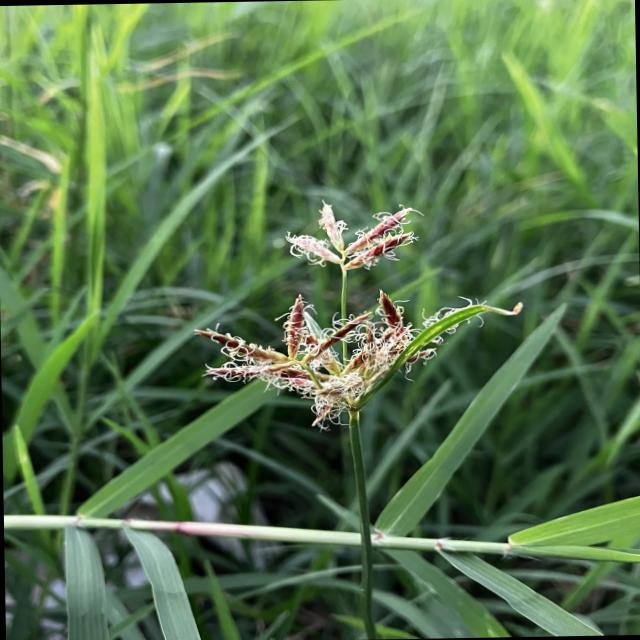cyperus: (188, 192, 506, 431)
